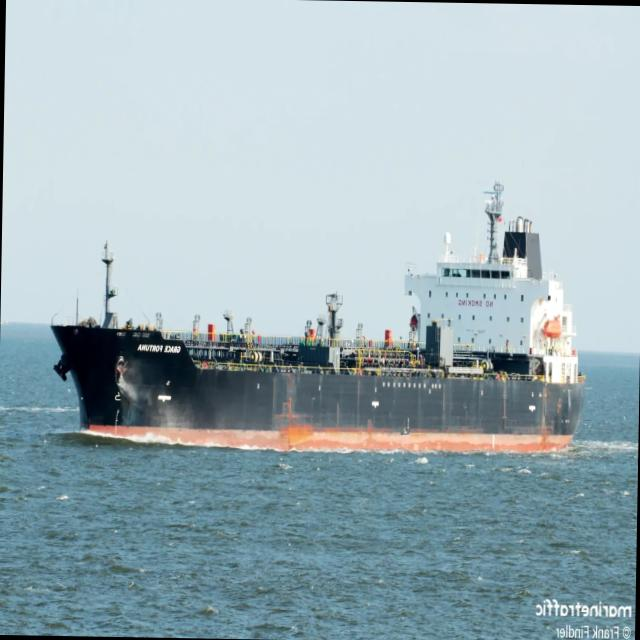Tanker: (51, 183, 585, 450)
